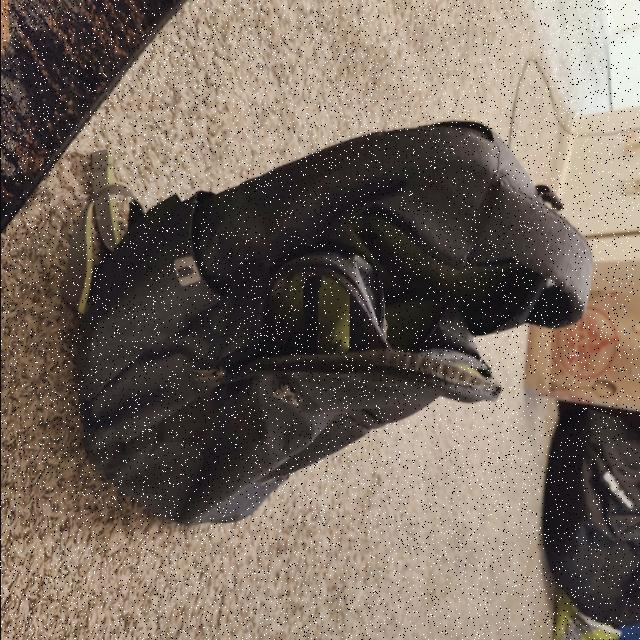bag: (89, 131, 586, 527)
